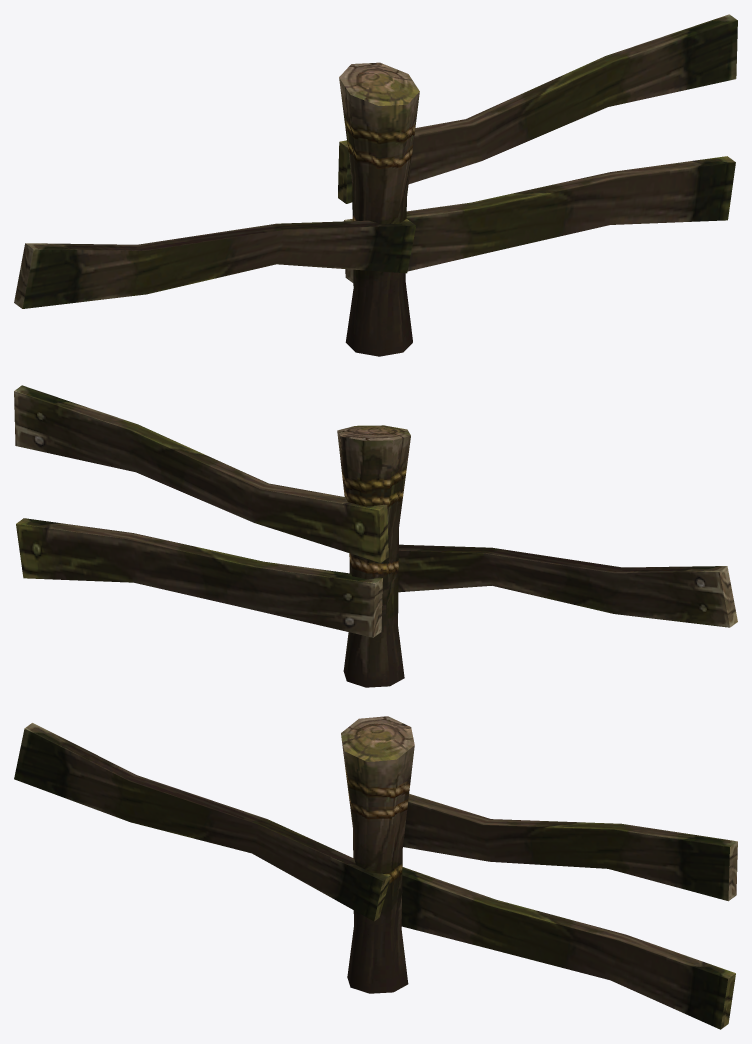
File: lumina_object_fencesmall01_03.FBX
3 renders of one model, top to bottom at view 1: azimuth 30°, elevation 25°; view 2: azimuth 150°, elevation 25°; view 3: azimuth 330°, elevation 25°, orthographic. The views are drawn at different scales.
Visible parts, largest first — view 1: lumina_object_fencesmall01_03; view 2: lumina_object_fencesmall01_03; view 3: lumina_object_fencesmall01_03.
Boxes of the visible parts, x1,y1,x2,y2 form: lumina_object_fencesmall01_03: (14, 14, 737, 356); lumina_object_fencesmall01_03: (14, 385, 737, 687); lumina_object_fencesmall01_03: (14, 716, 737, 1029).
Size of the model in its own units: 4.27 by 1.47 by 0.3898.
